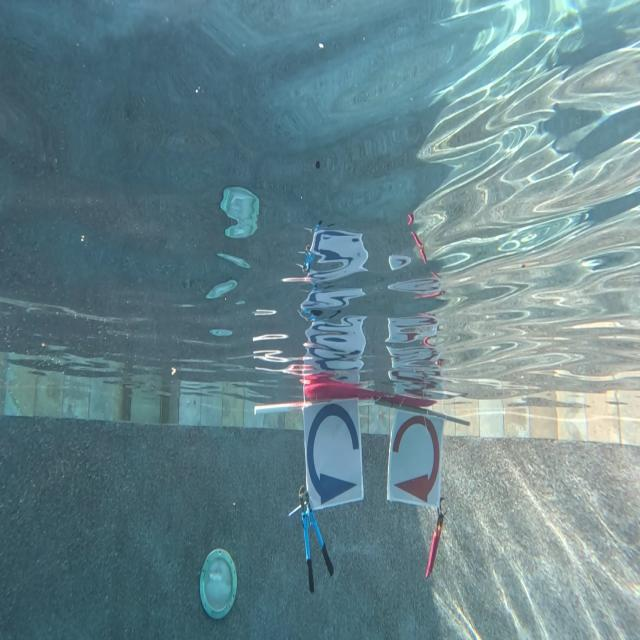blue_side: (305, 408, 363, 506)
red_side: (388, 411, 438, 502)
